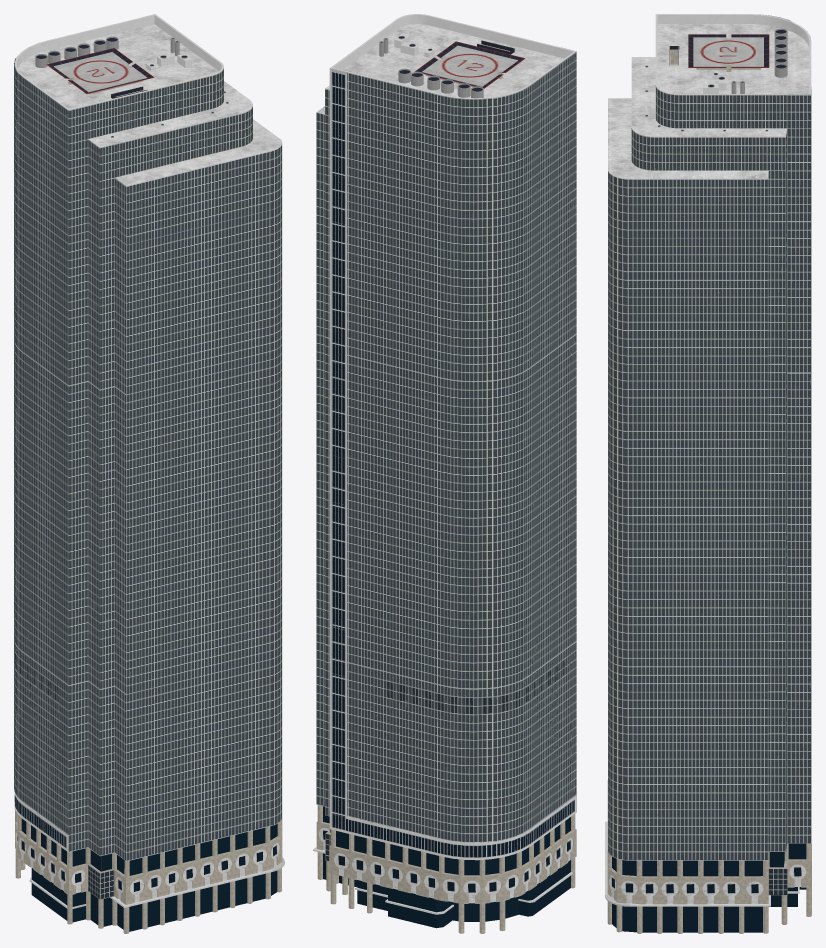
The model's file is 2-cali-plaza-skyscraper.glb.
3 renders of one model, left to right at view 1: azimuth 30°, elevation 25°; view 2: azimuth 150°, elevation 25°; view 3: azimuth 270°, elevation 25°, orthographic. The views are drawn at different scales.
Visible parts, largest first — view 1: 2-cali-plaza-skyscraper; view 2: 2-cali-plaza-skyscraper; view 3: 2-cali-plaza-skyscraper.
Boxes of the visible parts, x1,y1,x2,y2 form: 2-cali-plaza-skyscraper: (14, 14, 284, 933); 2-cali-plaza-skyscraper: (313, 14, 576, 933); 2-cali-plaza-skyscraper: (605, 14, 811, 933).
Bounding box in the file's own units: 58.69 × 229 × 51.98.
Materials: 1 (1 with a texture image).
